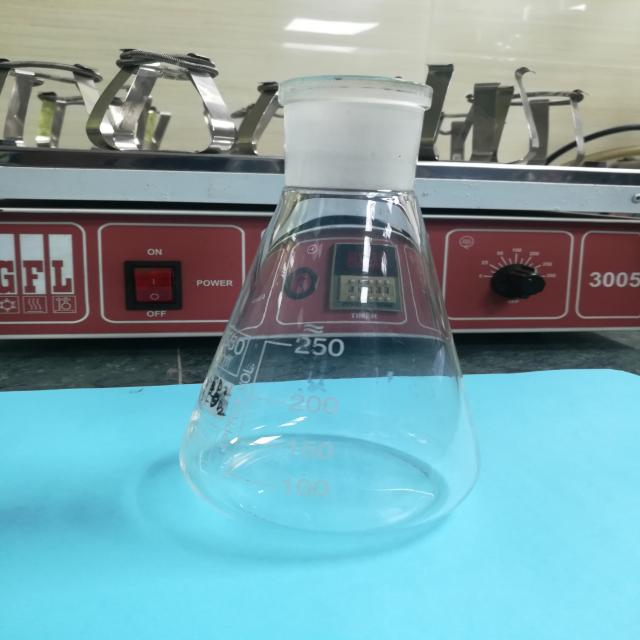Conical_Flask: (149, 32, 524, 568)
